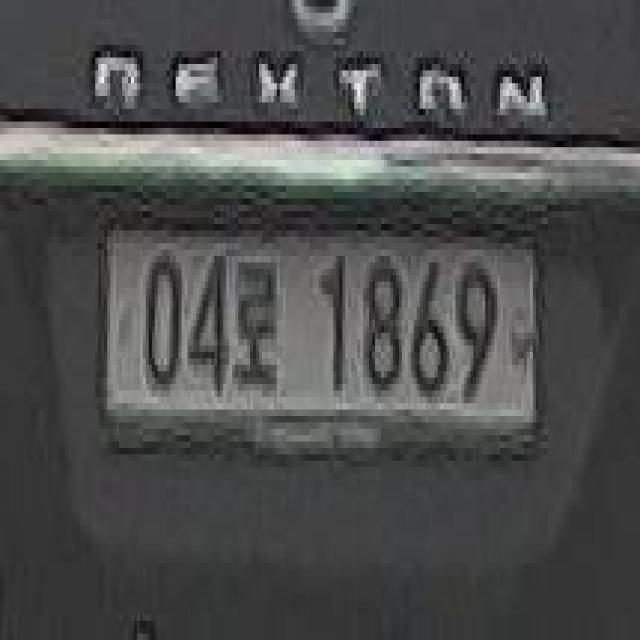illegal_plate: (98, 196, 544, 476)
